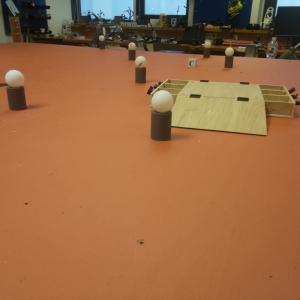blockC: (188, 59, 195, 68)
corner: (10, 15, 19, 40)
obstacle: (150, 91, 171, 141), (5, 71, 24, 111), (134, 55, 146, 83), (225, 47, 234, 69), (128, 42, 136, 60), (204, 41, 211, 58), (99, 35, 105, 50)
side: (261, 83, 299, 123)
slope: (173, 94, 268, 133)
